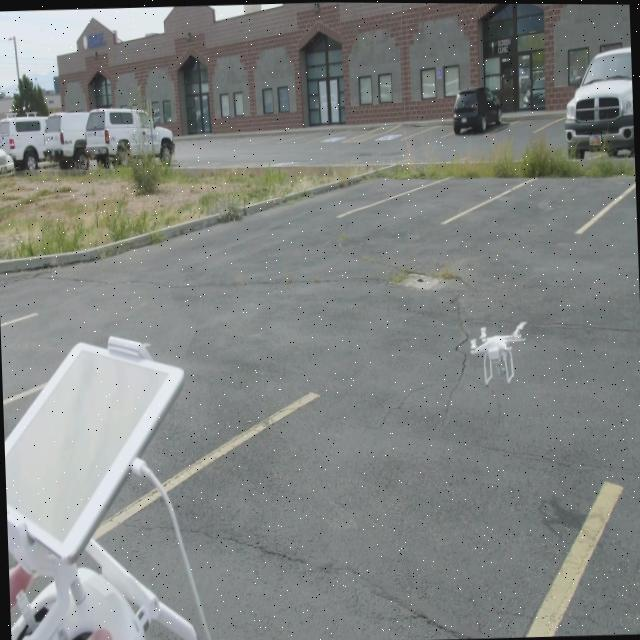drone: (468, 325, 526, 390)
